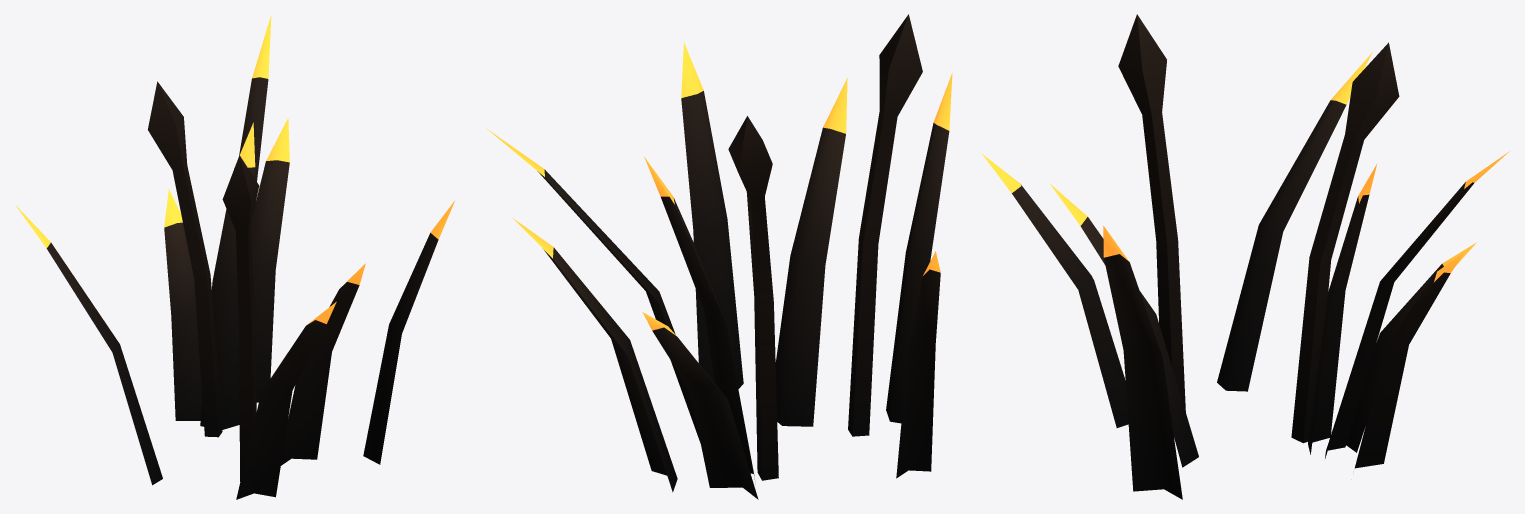
The model's file is grass_ember_b.glb.
The picture shows the model from 3 angles, left to right: view 1: azimuth 30°, elevation 25°; view 2: azimuth 150°, elevation 25°; view 3: azimuth 270°, elevation 25°; orthographic projection. The views are drawn at different scales.
Parts seen in each view (by area): view 1: grass_ember_b; view 2: grass_ember_b; view 3: grass_ember_b.
Part boxes in pixels (bbox=[...]): grass_ember_b: bbox=[15, 15, 454, 499]; grass_ember_b: bbox=[486, 14, 952, 499]; grass_ember_b: bbox=[982, 14, 1509, 499].
Bounding box in the file's own units: 0.4778 × 0.4818 × 0.5785.
